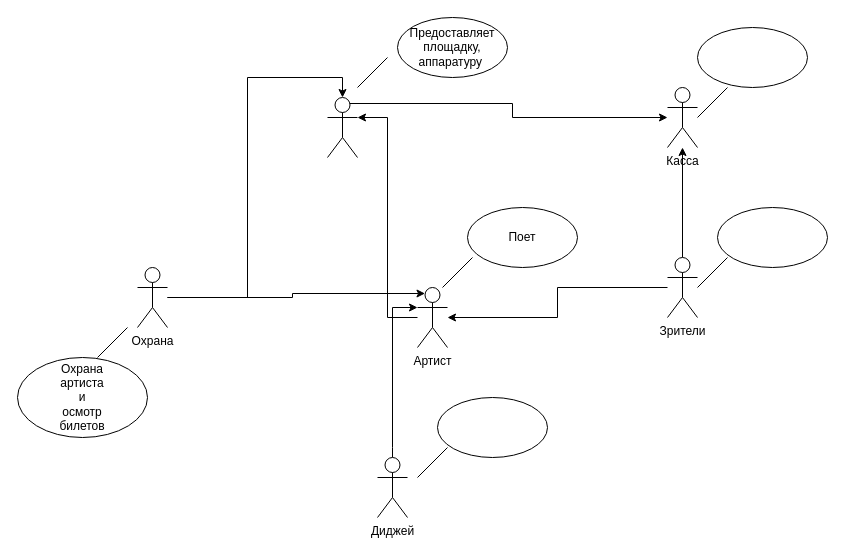
Some shapes in this 845 by 556 pixel diagram are drawn without their labels. Here are the shapes that lost their labels. From the top down, the centre of each, then its label:
At pixel 752 57: "Продажа билетов".
At pixel 342 127: "Организаторы".
At pixel 772 237: "Просмотр концерта".
At pixel 492 427: "Отвечает за музыкальное сопровождение".
